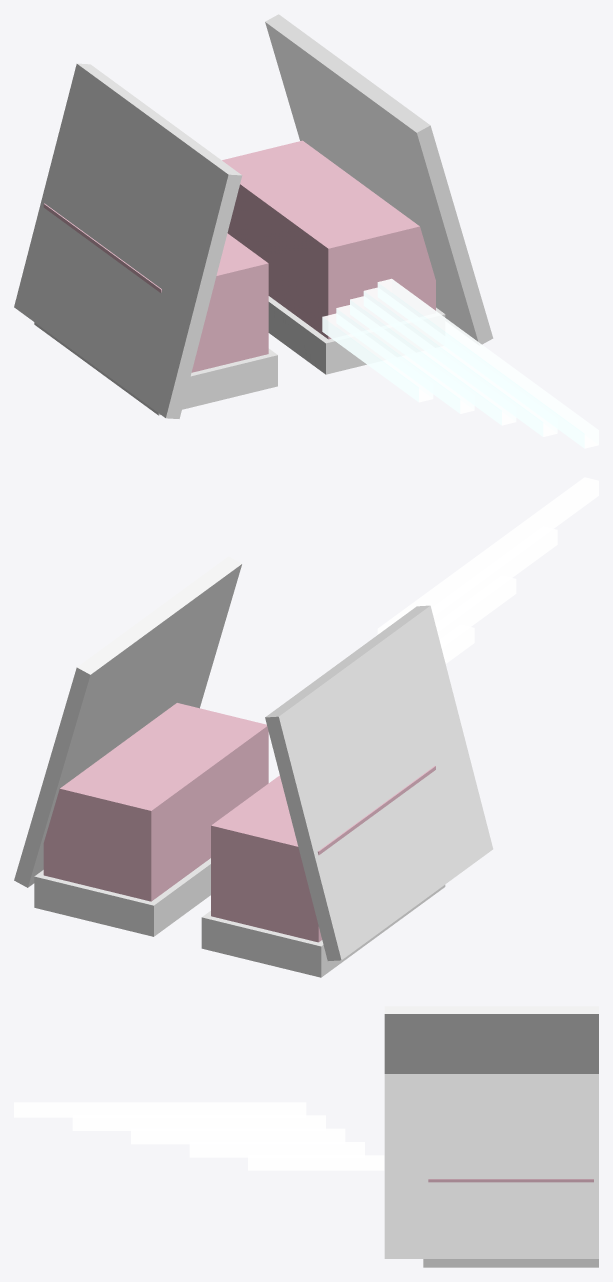
Rendered from WalkSpeedProp.glb.
3 renders of one model, top to bottom at view 1: azimuth 30°, elevation 25°; view 2: azimuth 150°, elevation 25°; view 3: azimuth 270°, elevation 25°, orthographic. The views are drawn at different scales.
Visible parts, largest first — view 1: WalkSpeedProp_2, WalkSpeedProp_1, WalkSpeedProp_0; view 2: WalkSpeedProp_2, WalkSpeedProp_1, WalkSpeedProp_0; view 3: WalkSpeedProp_2, WalkSpeedProp_0, WalkSpeedProp_1.
Boxes of the visible parts, <box> form: WalkSpeedProp_2: <box>14,14,493,418</box>; WalkSpeedProp_1: <box>43,140,435,372</box>; WalkSpeedProp_0: <box>322,278,598,448</box>; WalkSpeedProp_2: <box>14,556,493,977</box>; WalkSpeedProp_1: <box>43,703,435,942</box>; WalkSpeedProp_0: <box>377,477,598,663</box>; WalkSpeedProp_2: <box>384,1006,598,1267</box>; WalkSpeedProp_0: <box>14,1102,384,1170</box>; WalkSpeedProp_1: <box>428,1179,593,1182</box>.
Size of the model in its own units: 2.74 by 2 by 6.
